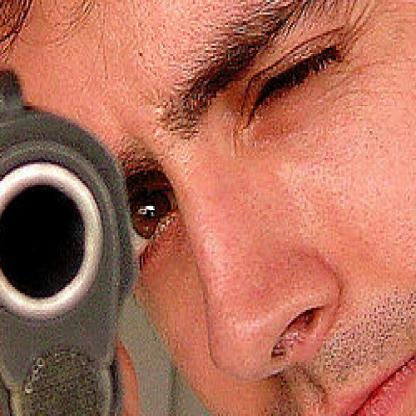gun: (0, 10, 152, 414)
